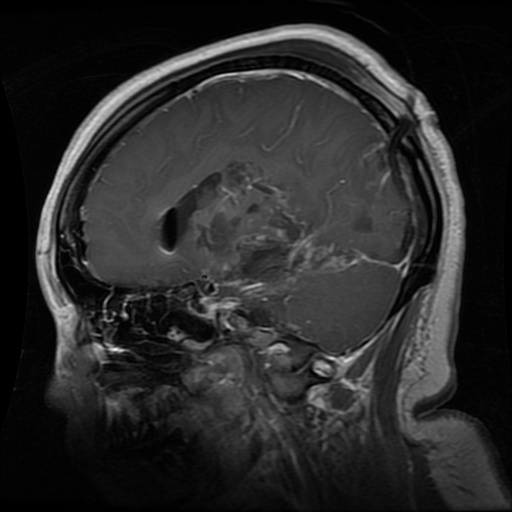glioma: (157, 158, 373, 299)
